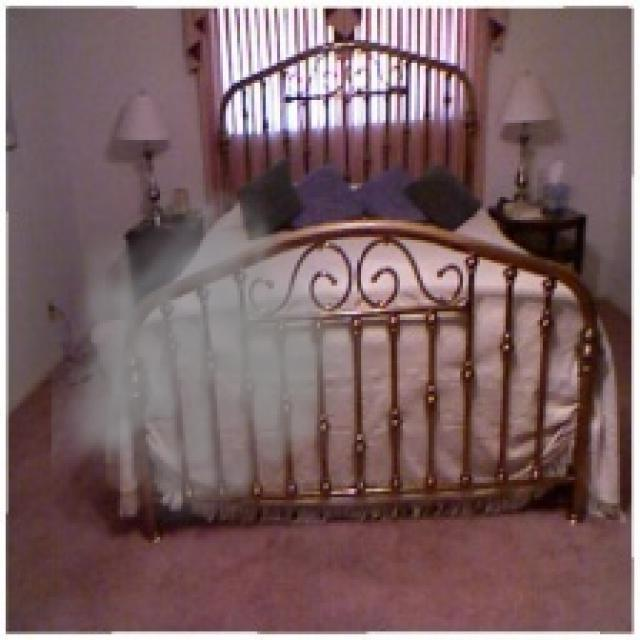Smoke: (52, 171, 397, 540)
